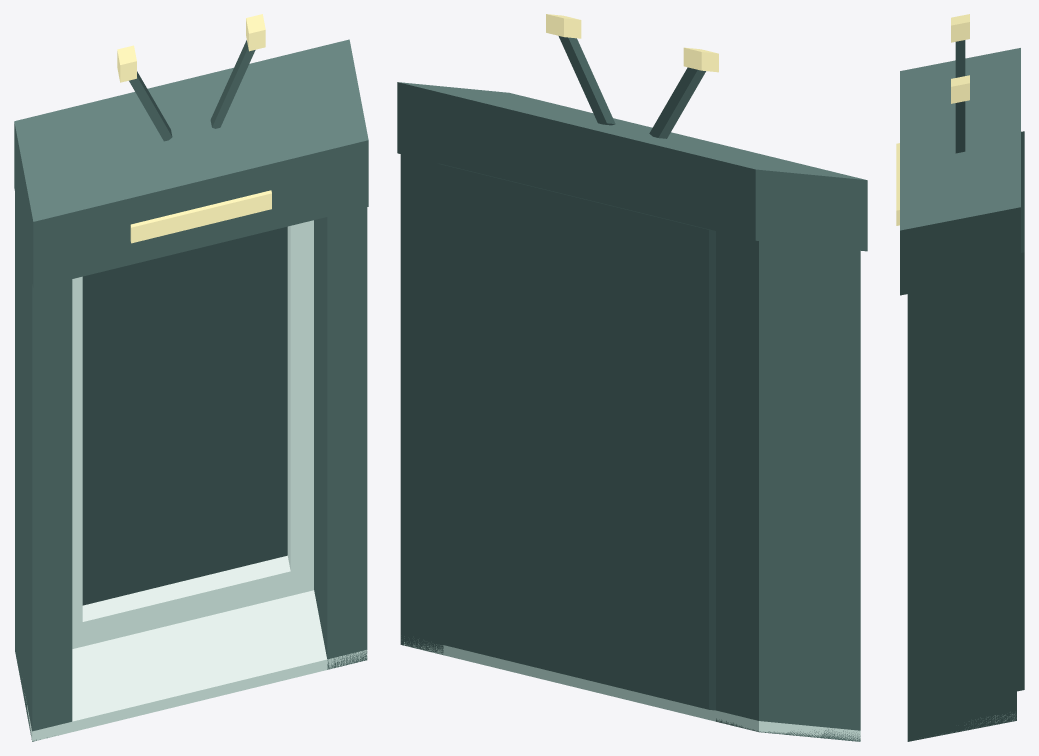
The model's file is Goal_Frame.gltf.
3 views of the same model, side by side, from view 1: azimuth 30°, elevation 25°; view 2: azimuth 150°, elevation 25°; view 3: azimuth 270°, elevation 25° (orthographic). The views are drawn at different scales.
Visible parts, largest first — view 1: Goal_Frame_baked; view 2: Goal_Frame_baked; view 3: Goal_Frame_baked.
Boxes of the visible parts, x1,y1,x2,y2 form: Goal_Frame_baked: (14,14,368,741); Goal_Frame_baked: (397,14,867,741); Goal_Frame_baked: (896,14,1024,741).
Bounding box in the file's own units: 2.26 × 3.65 × 0.68.
